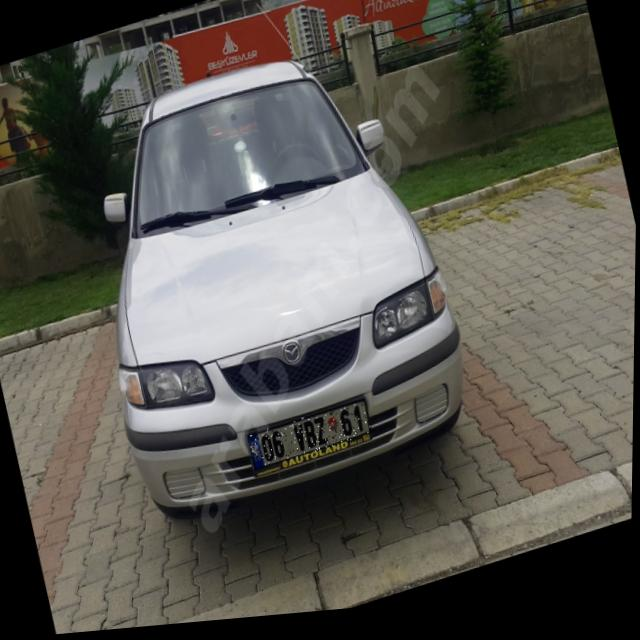license_plate: (248, 404, 373, 476)
